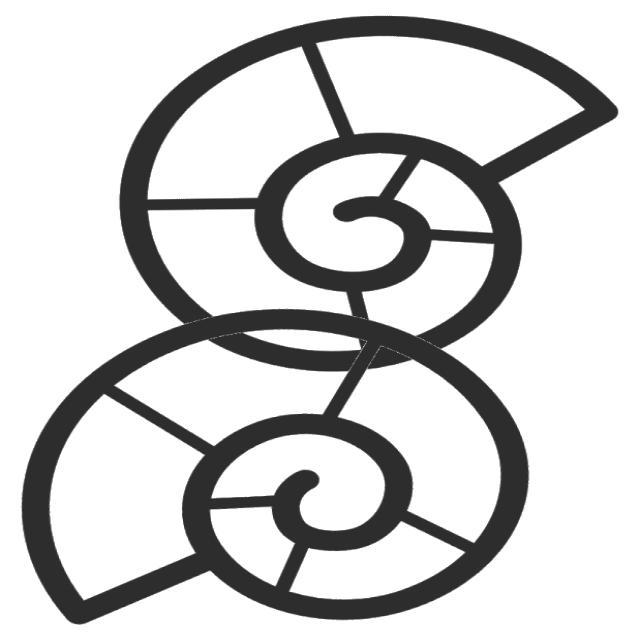fossil: (101, 9, 625, 379), (8, 299, 543, 630)
